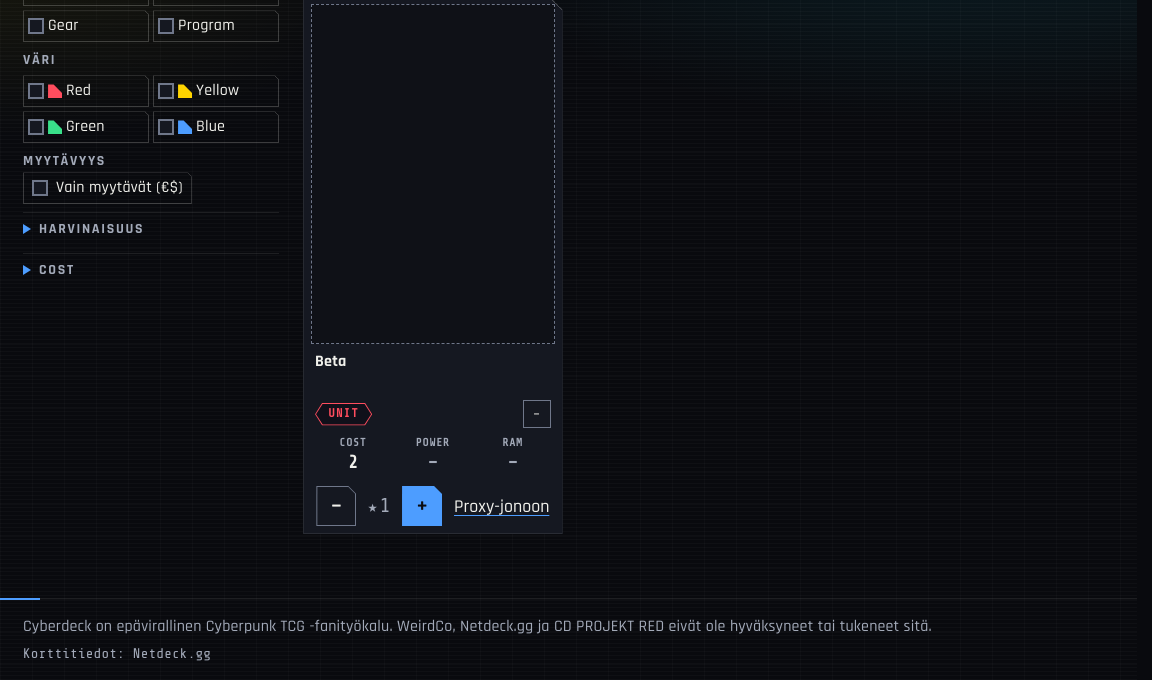
Scenario: Have/Want section (T-065) › lists the want list cards and drops a row, moving focus to the Want heading, when its count reaches 0
(page scrolled)
Click the button "−" at (336, 506), box [316,486,356,526]
(page scrolled)
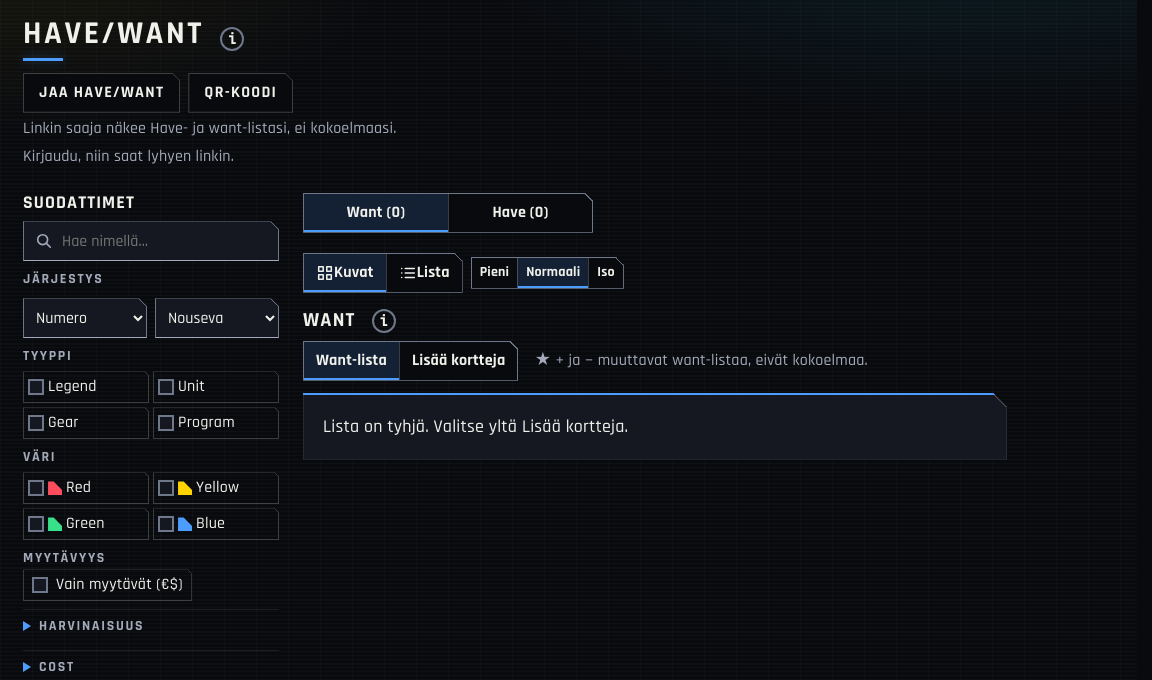
Result: the text "Lista on tyhjä. Valitse yltä Lisää kortteja." is shown at [323,413,628,440]
